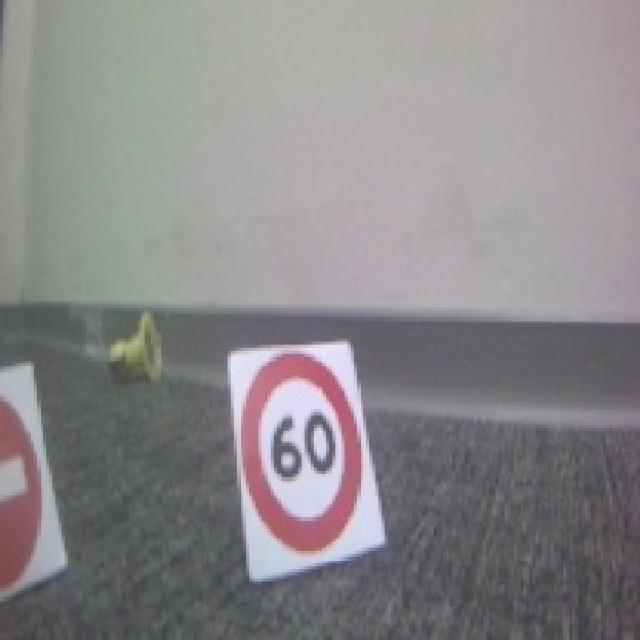DoNotEnterSign: (0, 382, 40, 590)
